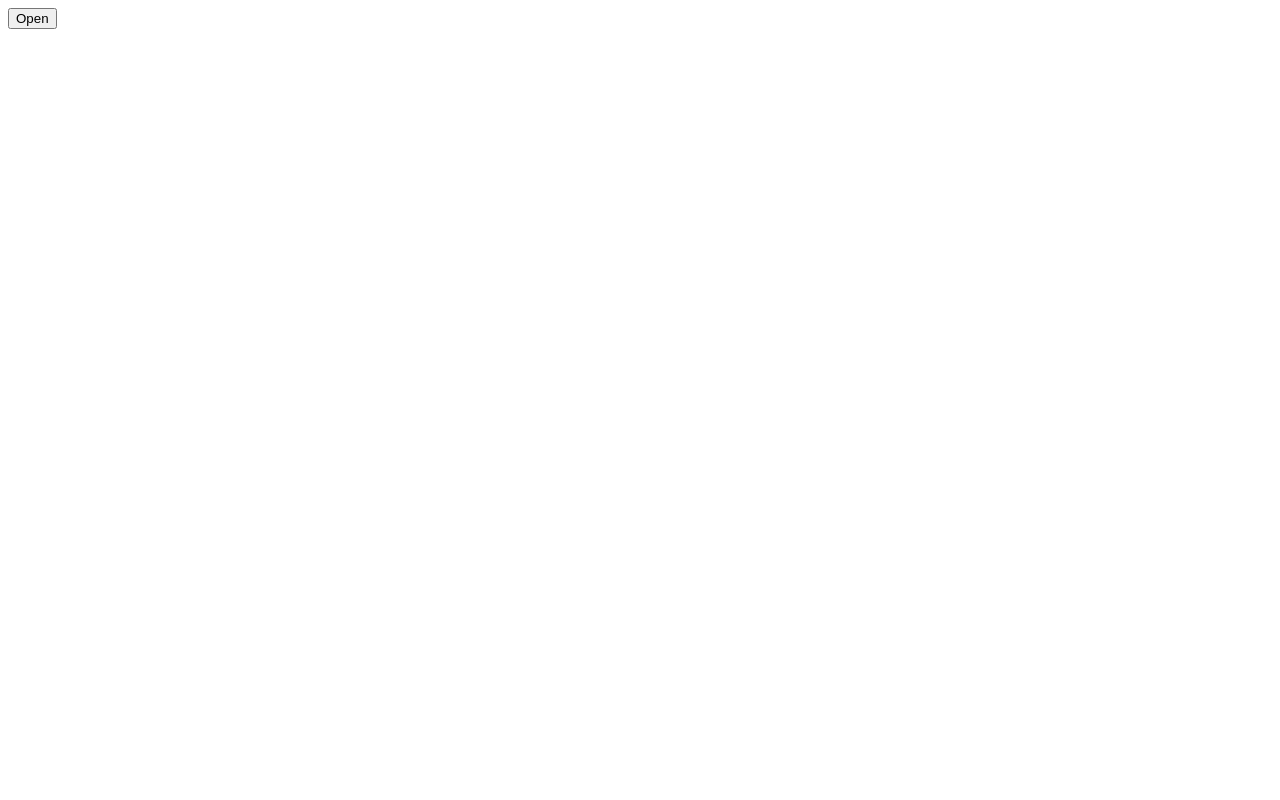
Test: Dialog › opens content when trigger is clicked
This screenshot has width=1280, height=800.
Click the button "Open" at (32, 18), box [8,8,57,29]
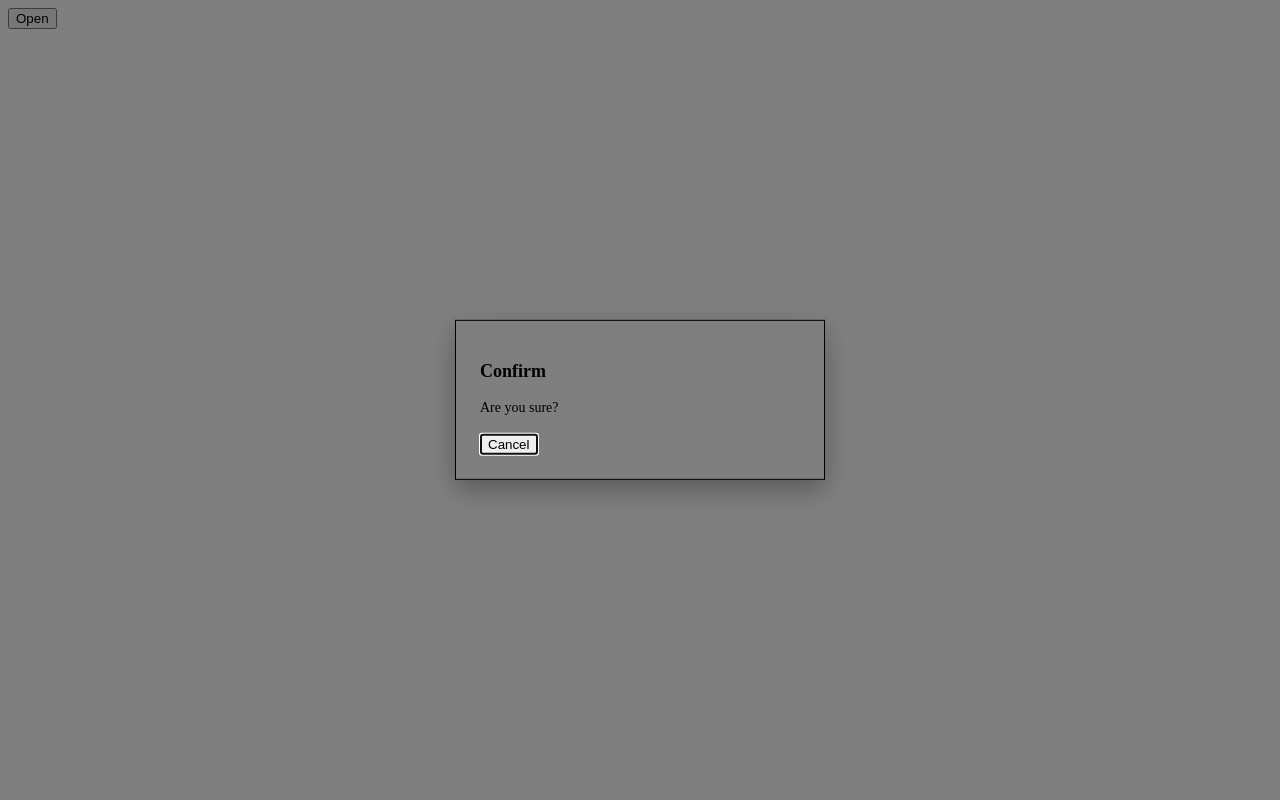
Check: the heading "Confirm" is shown, box [480,361,546,381]
